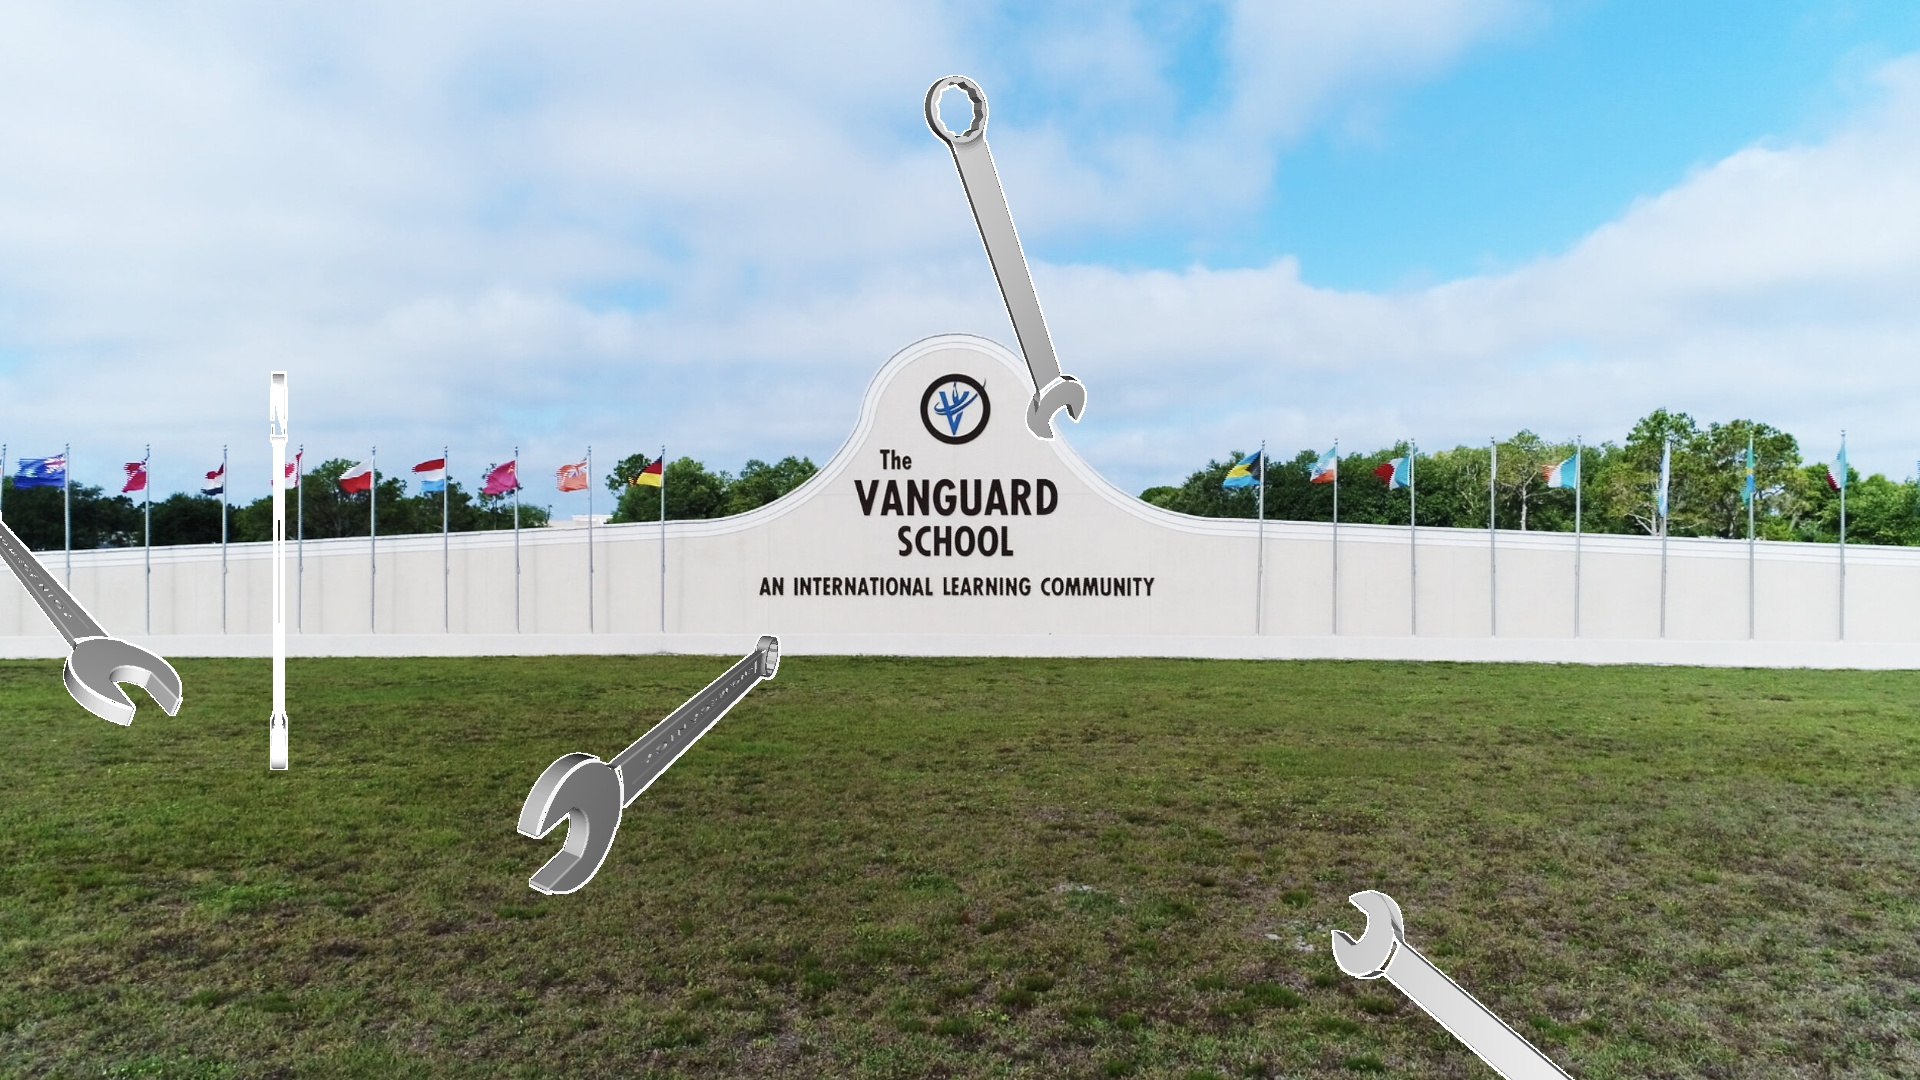Mixed Key: (517, 634, 781, 894), (924, 75, 1087, 440), (1331, 890, 1575, 1079), (0, 510, 182, 725), (270, 371, 287, 769)
